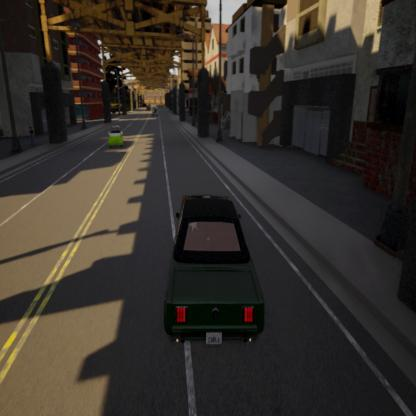Cars: (155, 186, 270, 350), (105, 119, 127, 153), (152, 104, 159, 116), (146, 102, 151, 112)
Pedestrian: (27, 125, 37, 151)
